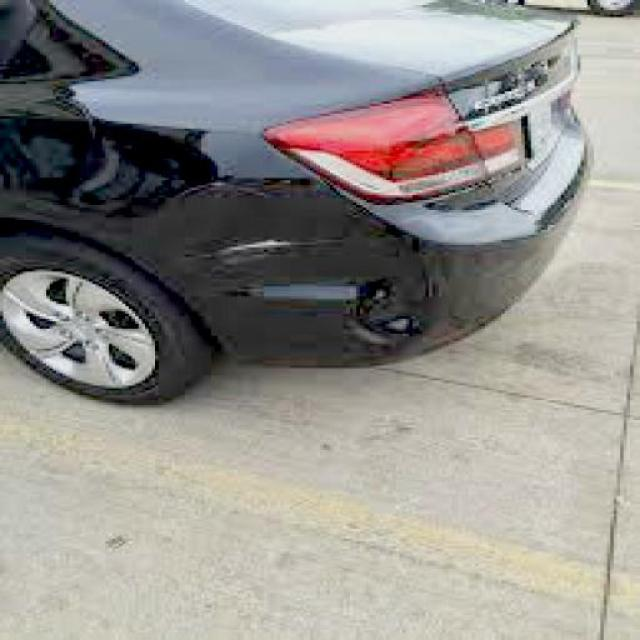car damage: (192, 221, 325, 277), (353, 281, 439, 351)
